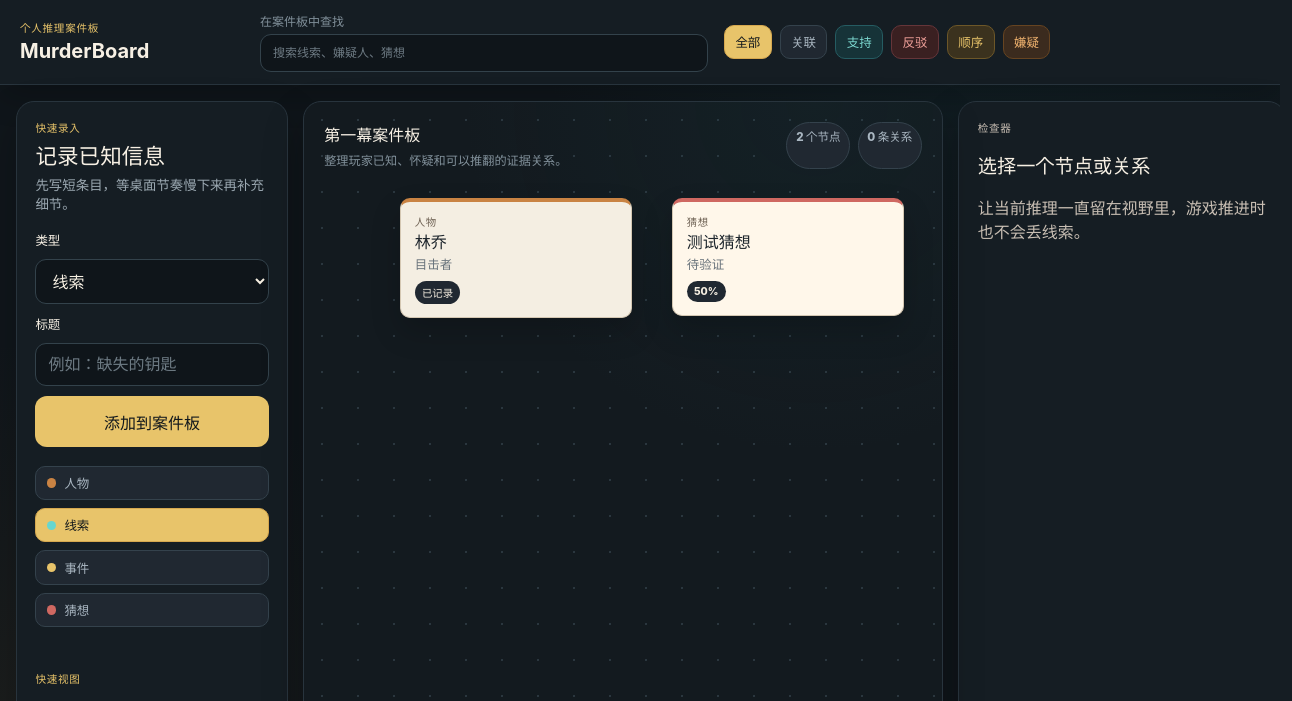
Test: BoardPage › shows Chinese error when relation creation fails
Click the text "林乔".
click(431, 242)  # box [415,232,447,252]
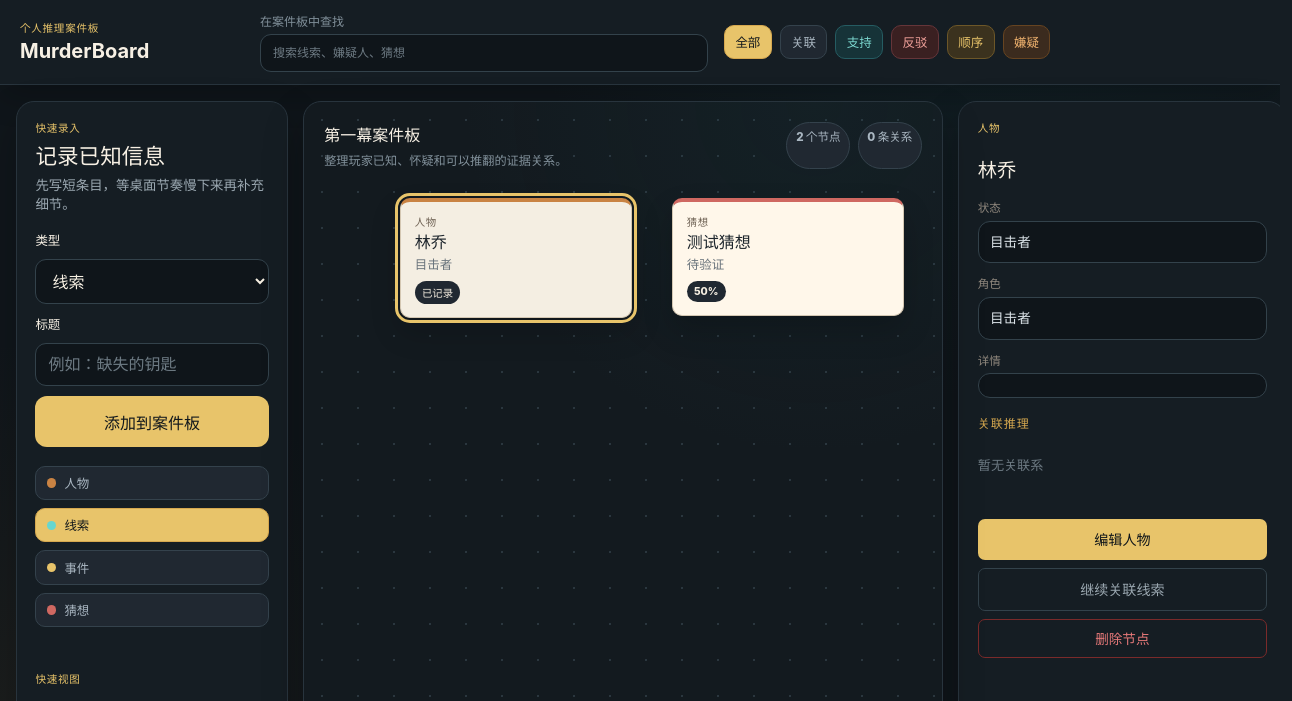
Click the button "继续关联线索".
click(1122, 589)  # box [978,568,1267,611]
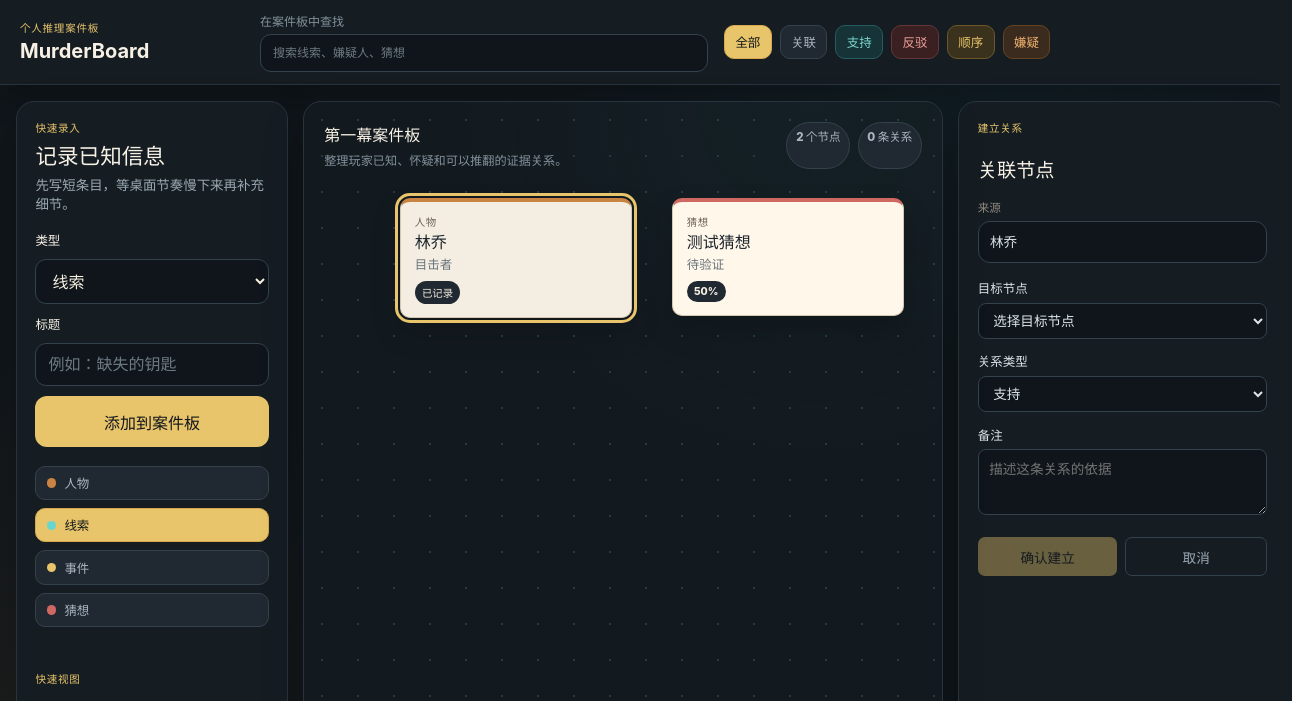
Select "[猜想] 测试猜想" in the dropdown labelled "目标节点" at (1122, 321), box [978,303,1267,339]
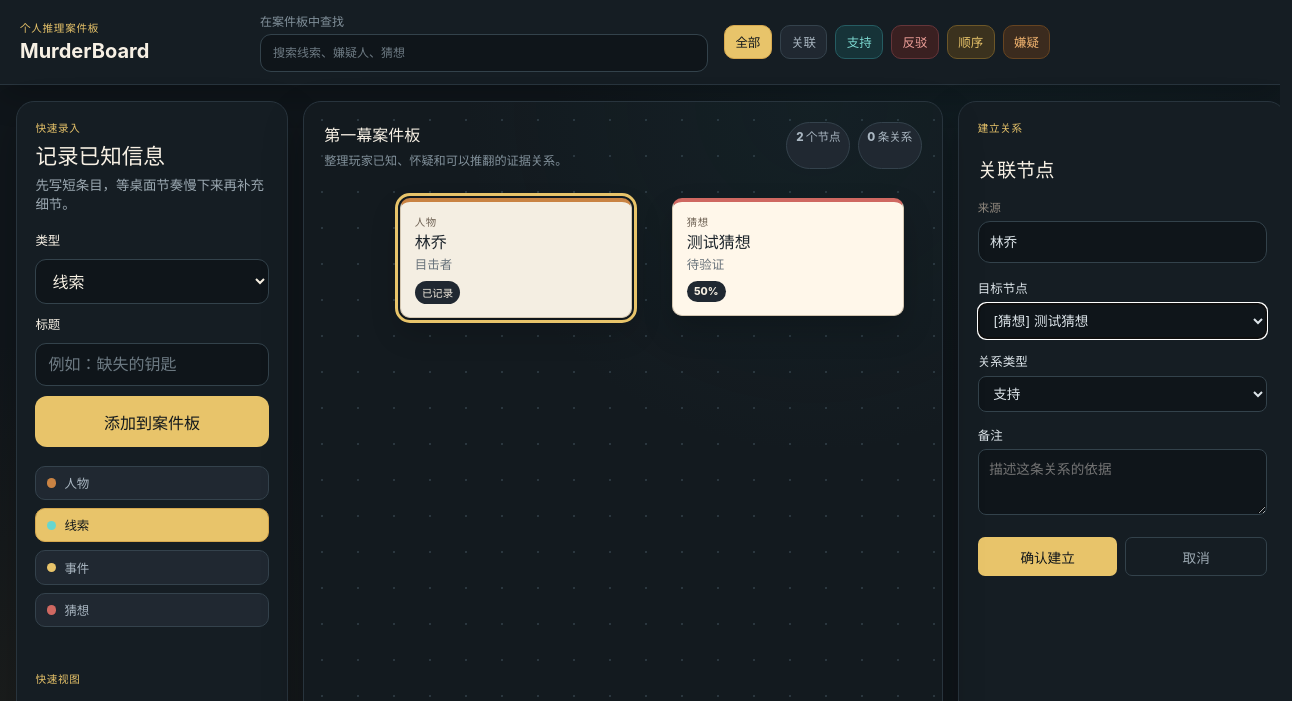
Click the button "确认建立".
click(1048, 557)  # box [978,537,1117,576]
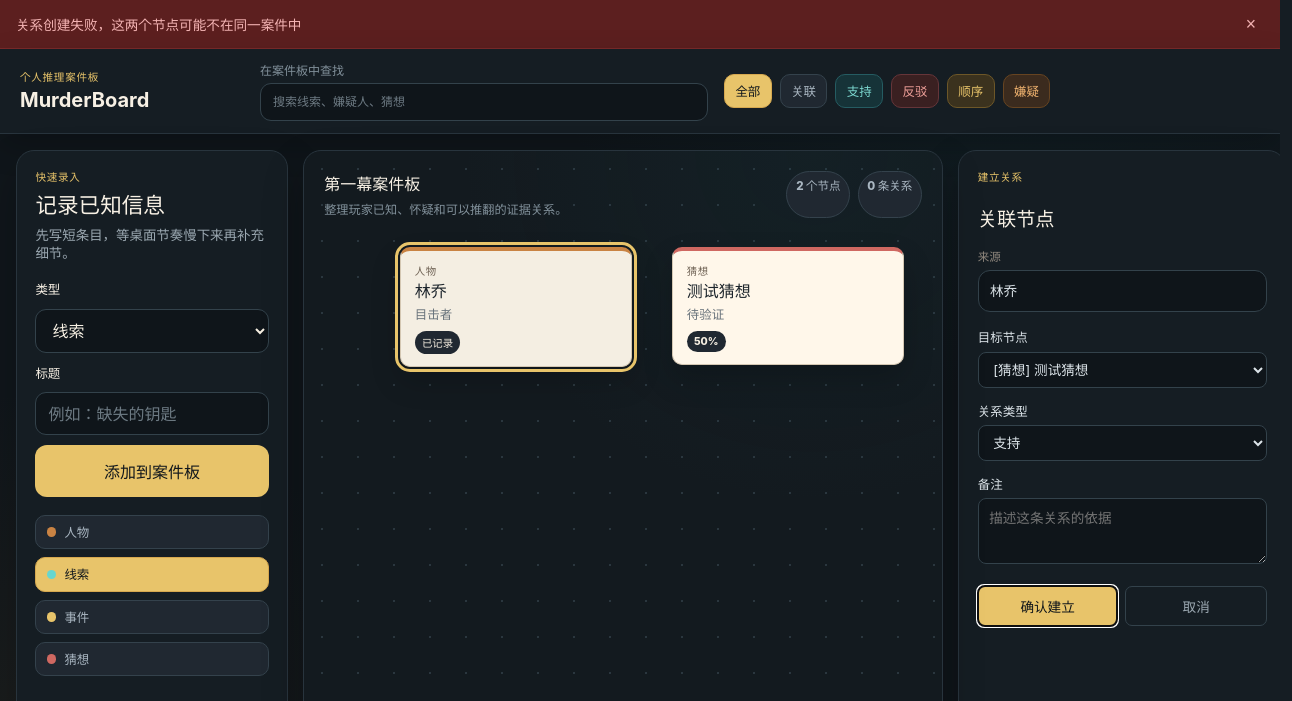
Expected: the text "关系创建失败，这两个节点可能不在同一案件中" is shown, [16,14,302,34]
